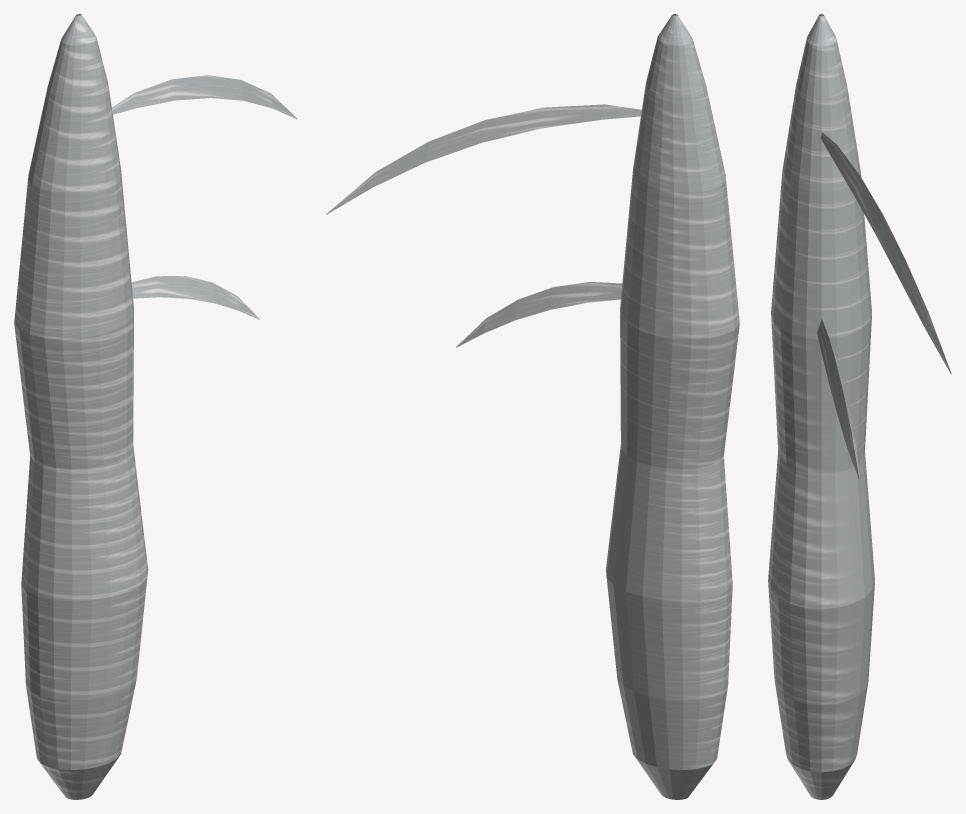
Rendered from excalibur_wind_pressure.obj.
3 renders of one model, left to right at view 1: azimuth 30°, elevation 25°; view 2: azimuth 150°, elevation 25°; view 3: azimuth 270°, elevation 25°, orthographic.
Parts seen in each view (by area): view 1: outer_wake, swing_wakes; view 2: outer_wake, swing_wakes; view 3: outer_wake, swing_wakes.
Part boxes in pixels (x1=…): outer_wake: x1=14, y1=14, x2=148, y2=799; swing_wakes: x1=112, y1=75, x2=297, y2=319; outer_wake: x1=606, y1=14, x2=739, y2=799; swing_wakes: x1=326, y1=104, x2=641, y2=347; outer_wake: x1=768, y1=14, x2=874, y2=799; swing_wakes: x1=817, y1=132, x2=951, y2=479.
Bounding box in the file's own units: 0.5324 × 1.16 × 0.2473.
